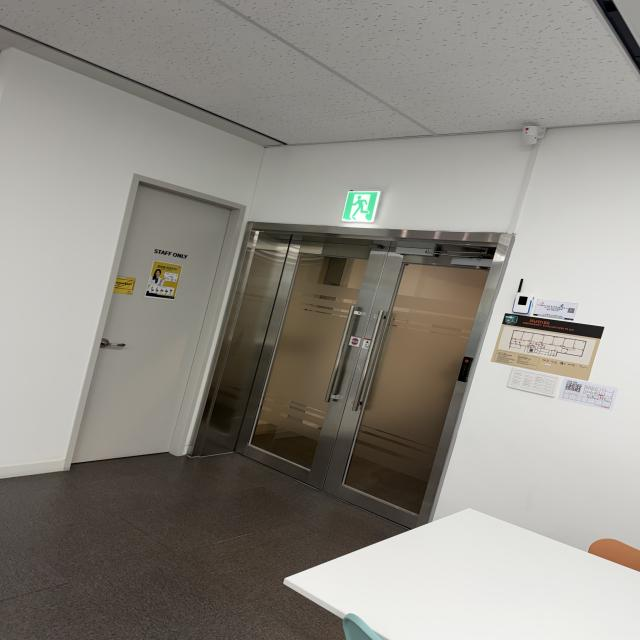rear_door: (231, 236, 496, 531)
